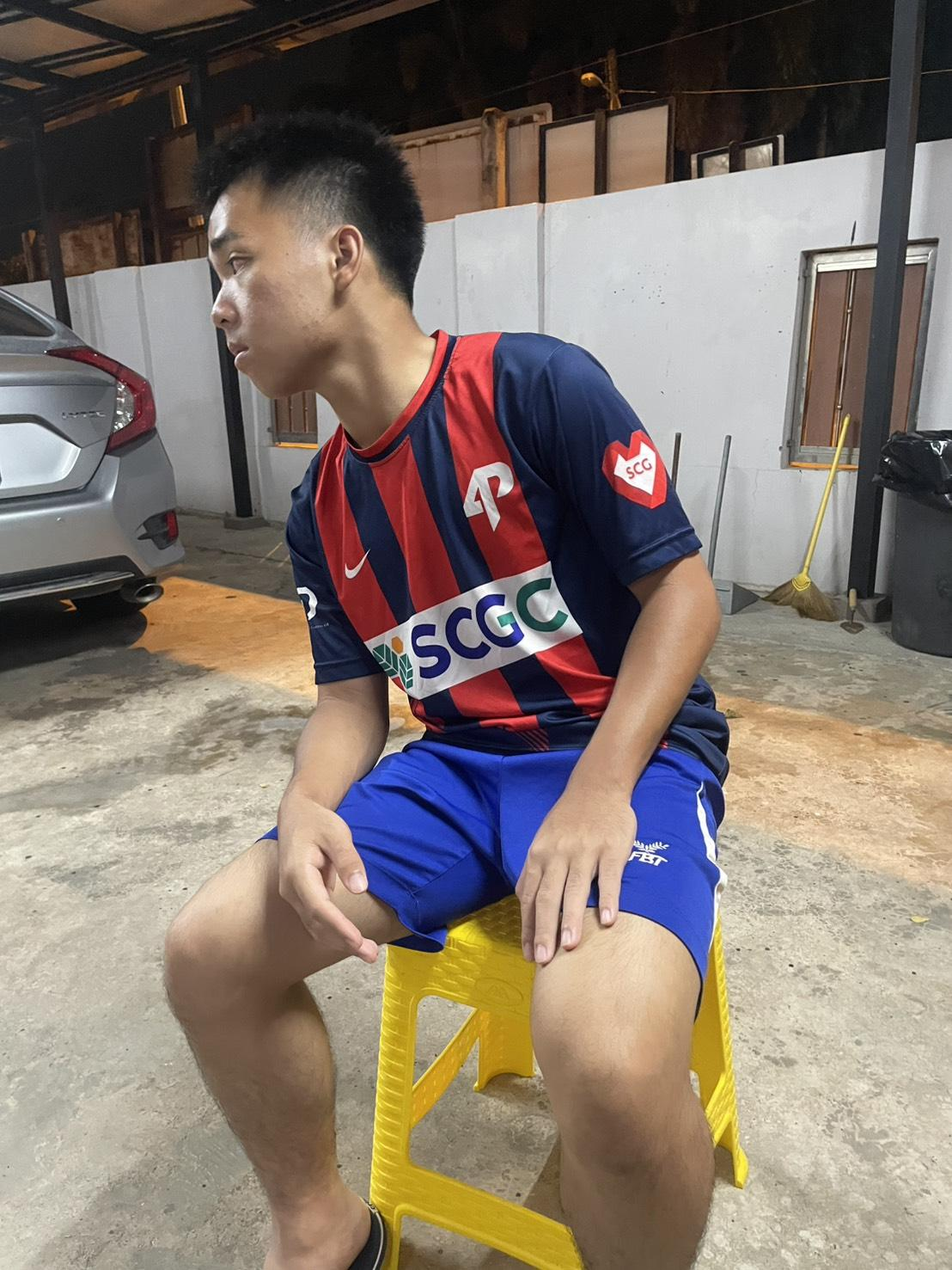BadPosture: (164, 112, 728, 1269), (195, 112, 729, 788), (196, 112, 729, 788)
